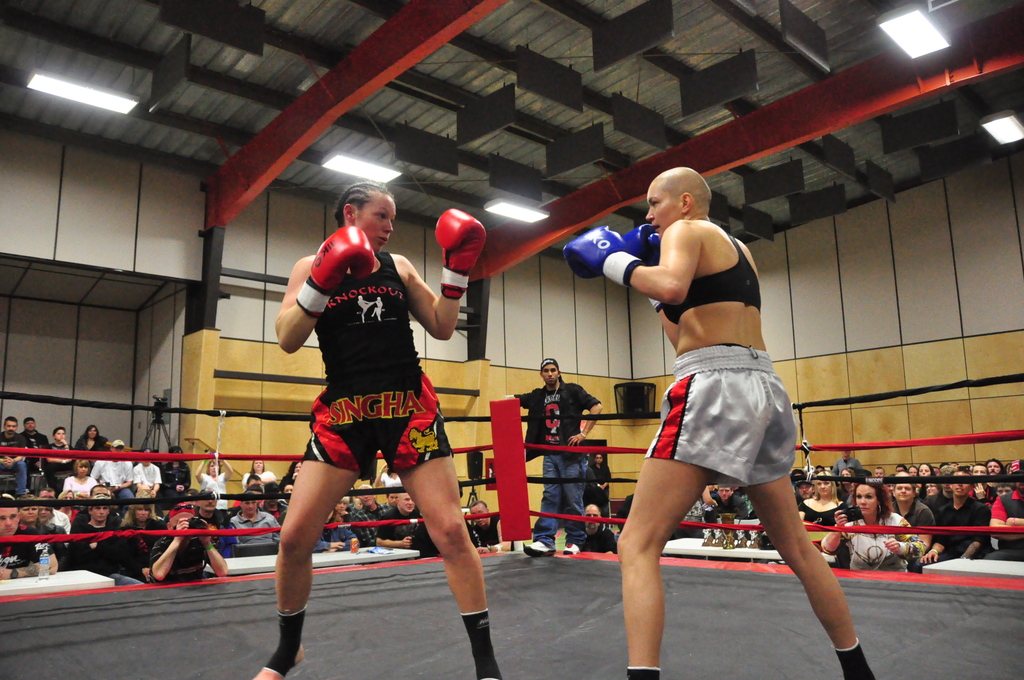Person: (0, 416, 1024, 588), (566, 165, 878, 680), (250, 180, 505, 680), (502, 358, 605, 557)
